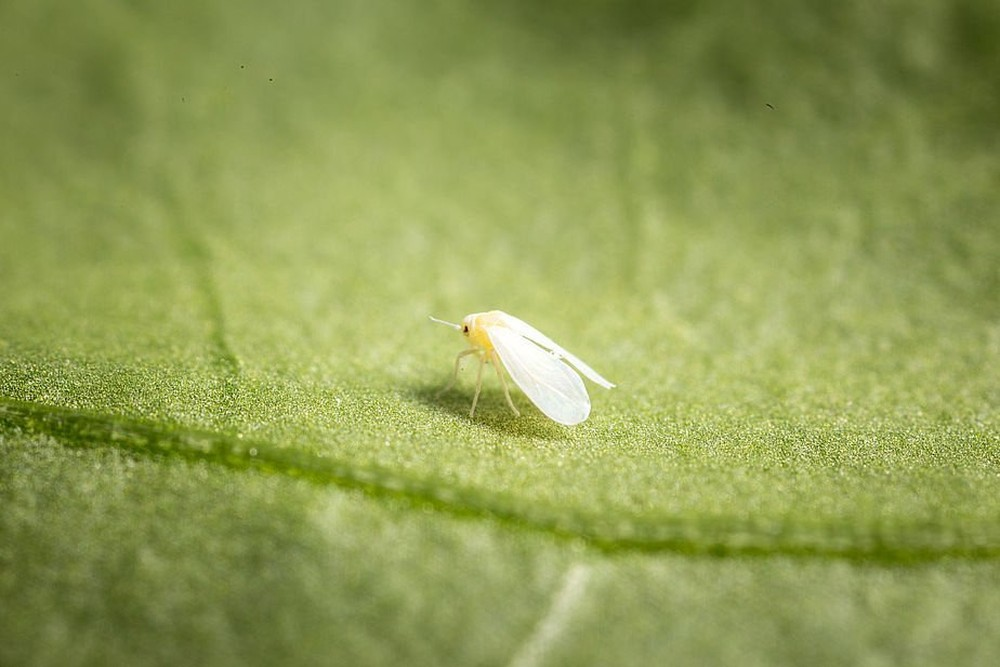Mosca Blanca: (411, 274, 633, 453)
